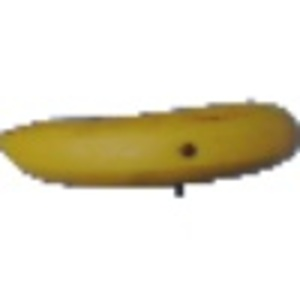banana: (5, 103, 296, 189)
